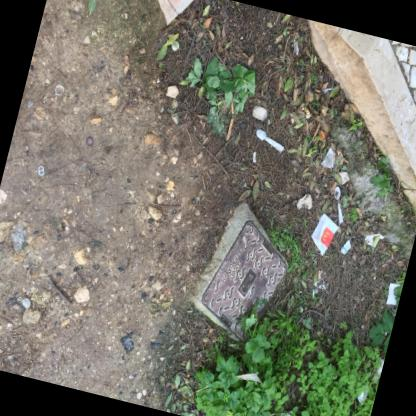Metal: (37, 164, 44, 175)
Paper: (310, 213, 338, 255), (252, 151, 255, 162)
Plastic: (255, 128, 283, 152), (333, 186, 343, 223), (320, 146, 335, 167), (339, 239, 350, 254), (300, 105, 310, 119)
